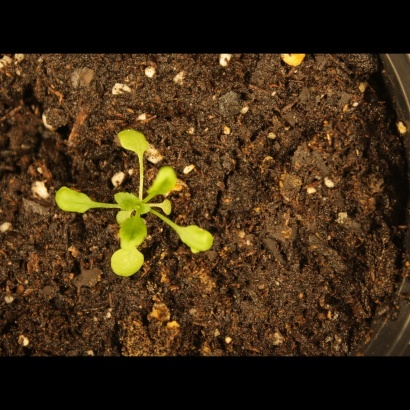leaf: (51, 184, 100, 218), (105, 243, 147, 281), (175, 220, 215, 255), (116, 212, 150, 253), (116, 126, 155, 159), (146, 166, 179, 199), (112, 188, 144, 214), (154, 196, 177, 219)
